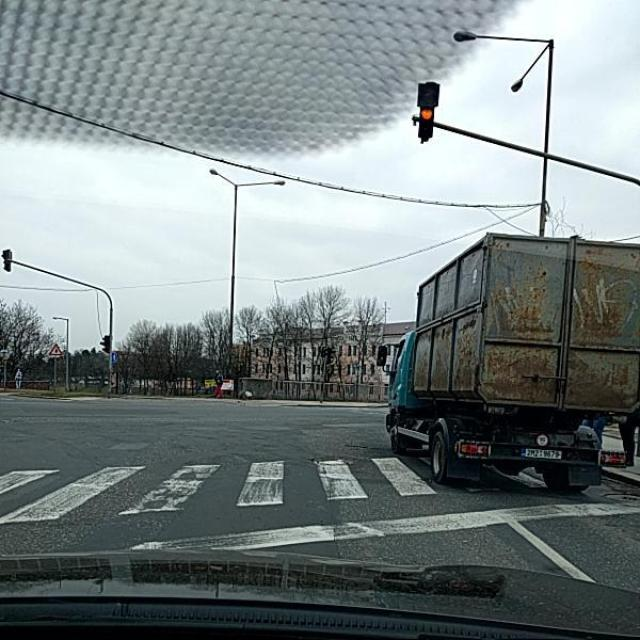Crack: (57, 429, 444, 566)
